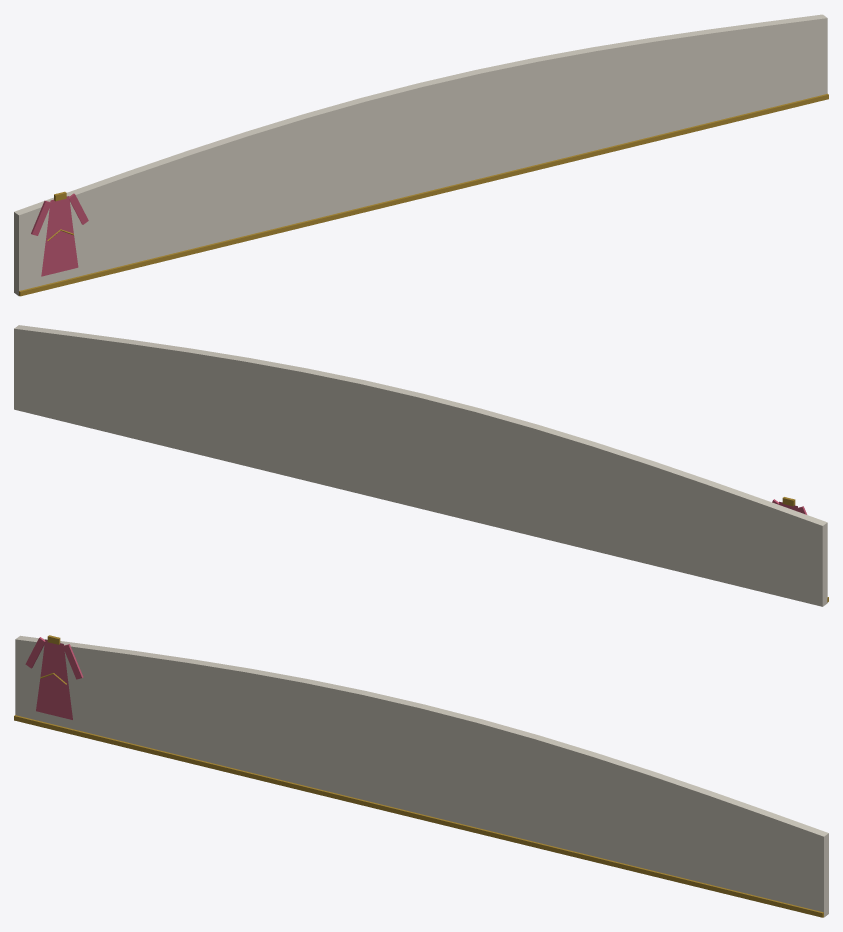
File: bang_nha_may_thanh_thao_60.glb
3 views of the same model, one above another, from view 1: azimuth 30°, elevation 25°; view 2: azimuth 150°, elevation 25°; view 3: azimuth 330°, elevation 25° (orthographic).
Visible parts, largest first — view 1: bang_nha_may_thanh_thao_60; view 2: bang_nha_may_thanh_thao_60; view 3: bang_nha_may_thanh_thao_60.
Part boxes in pixels (x1,y1,x2,y2): bang_nha_may_thanh_thao_60: [14, 14, 828, 296]; bang_nha_may_thanh_thao_60: [14, 325, 828, 606]; bang_nha_may_thanh_thao_60: [14, 635, 828, 917].
Bounding box in the file's own units: 5.65 × 0.74 × 0.085.
